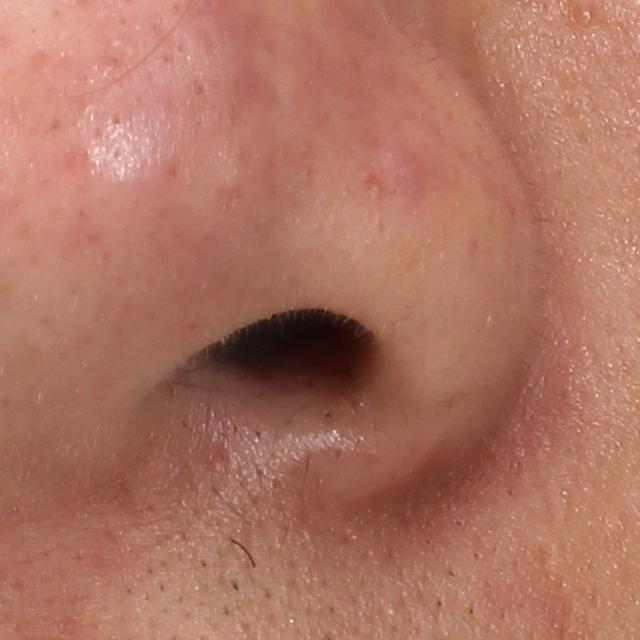comedo: (578, 3, 598, 28)
